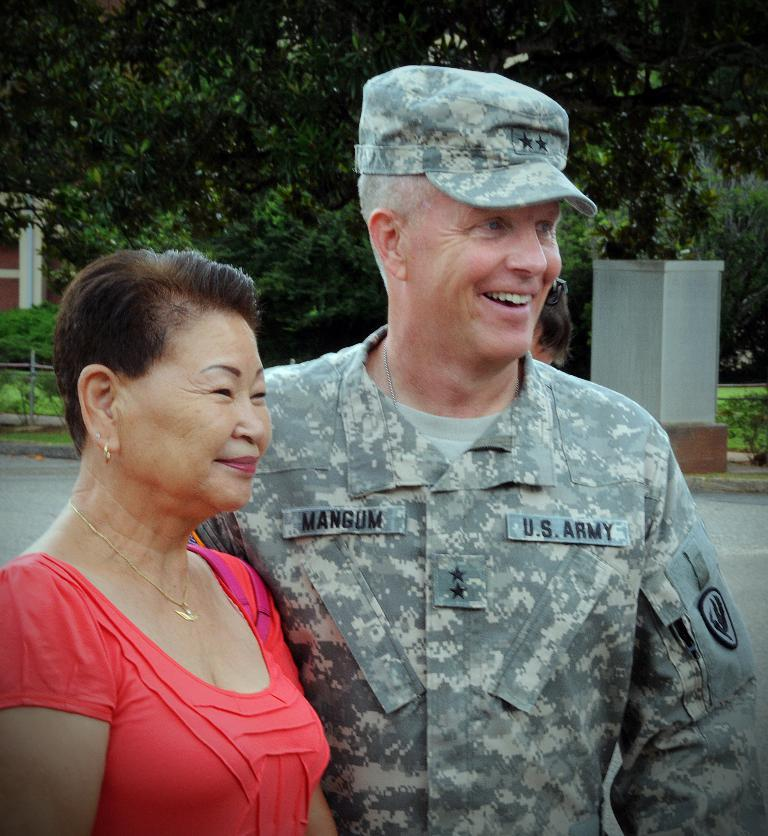Hat: (356, 59, 600, 225)
